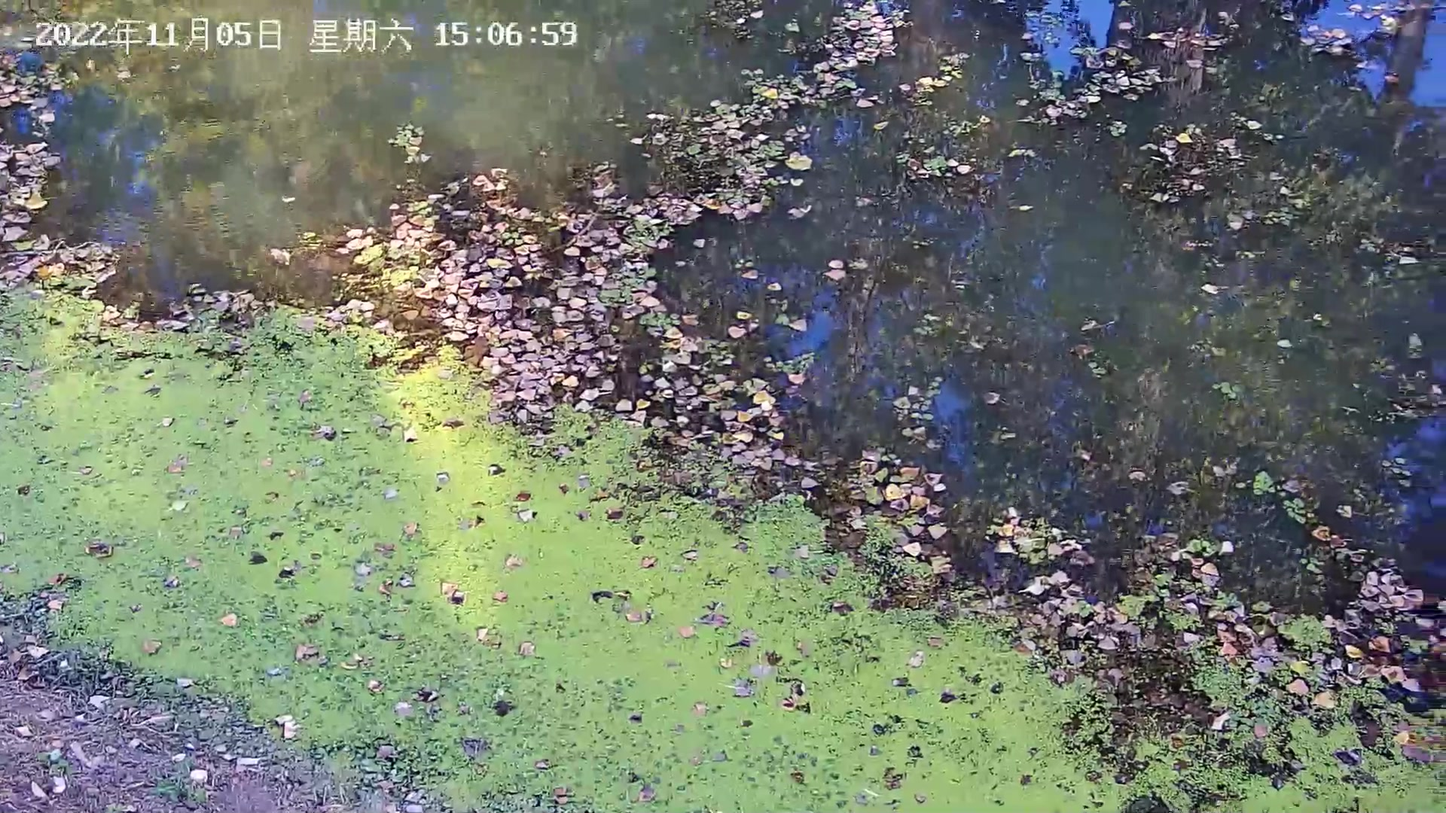floater: (1, 292, 1133, 811), (1135, 526, 1446, 801), (343, 172, 638, 422), (638, 1, 901, 209), (3, 51, 114, 296), (639, 312, 795, 475), (979, 574, 1139, 699), (837, 448, 963, 594), (1027, 4, 1167, 120), (903, 48, 1000, 184), (1295, 1, 1440, 75), (1145, 132, 1260, 205), (990, 511, 1088, 567), (1149, 19, 1231, 72)
